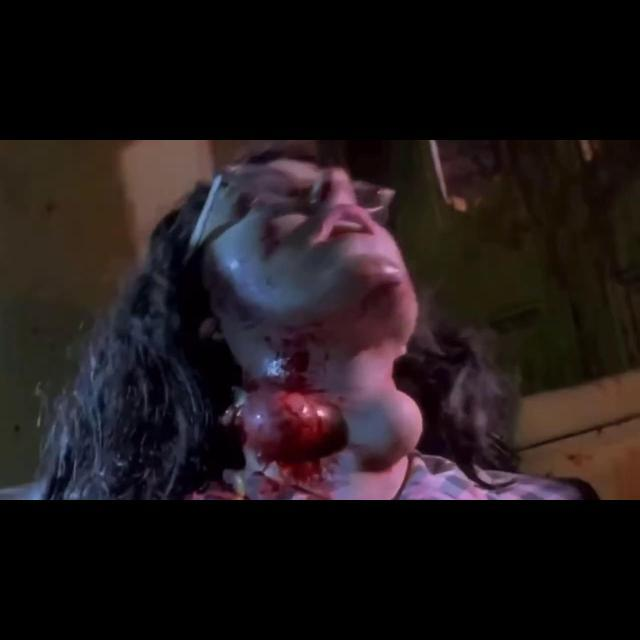blood: (242, 330, 349, 500), (358, 262, 404, 297), (261, 219, 286, 258)
